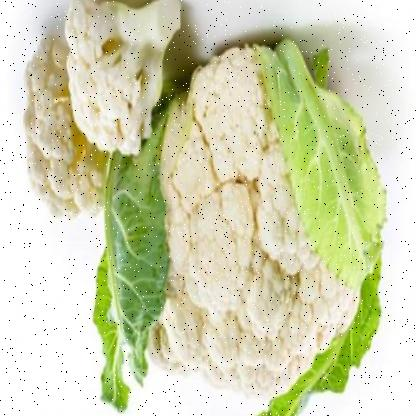cauliflower: (113, 76, 375, 383), (60, 0, 186, 155), (22, 31, 110, 217)
